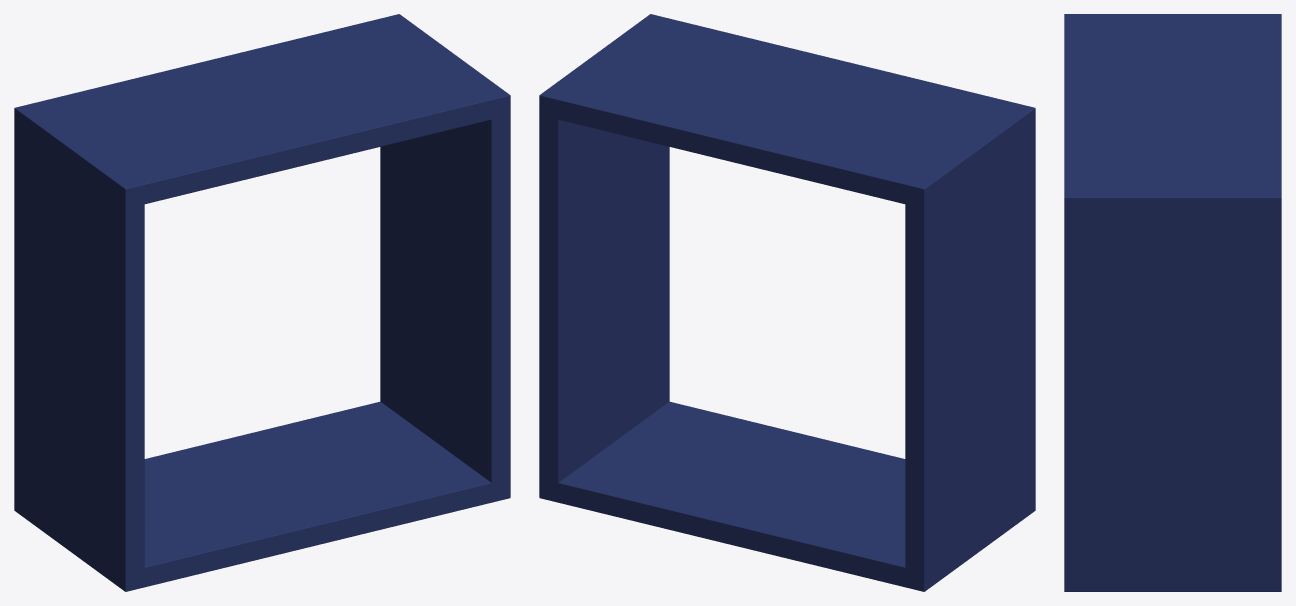
The model's file is MODH_1X1_A_O_AF.glb.
3 renders of one model, left to right at view 1: azimuth 30°, elevation 25°; view 2: azimuth 150°, elevation 25°; view 3: azimuth 270°, elevation 25°, orthographic. The views are drawn at different scales.
Bounding box in the file's own units: 360 × 360 × 180.
